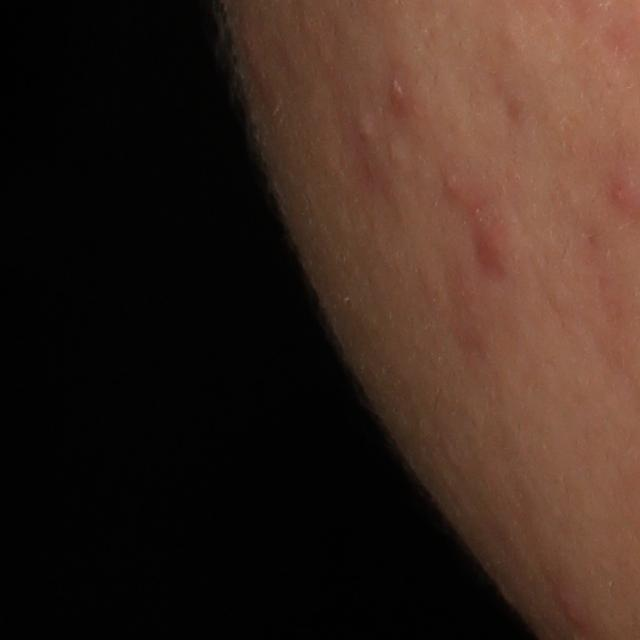comedo: (383, 137, 408, 172), (355, 114, 380, 147)
papule: (469, 200, 517, 285), (436, 143, 488, 209), (558, 593, 589, 634), (381, 77, 409, 113)
